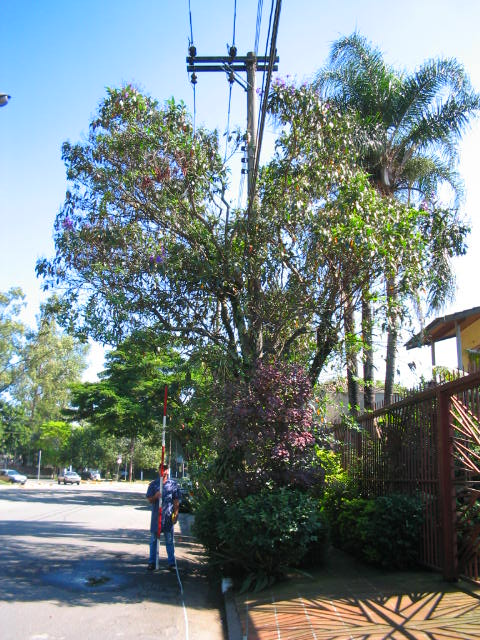stick: (145, 384, 180, 570)
